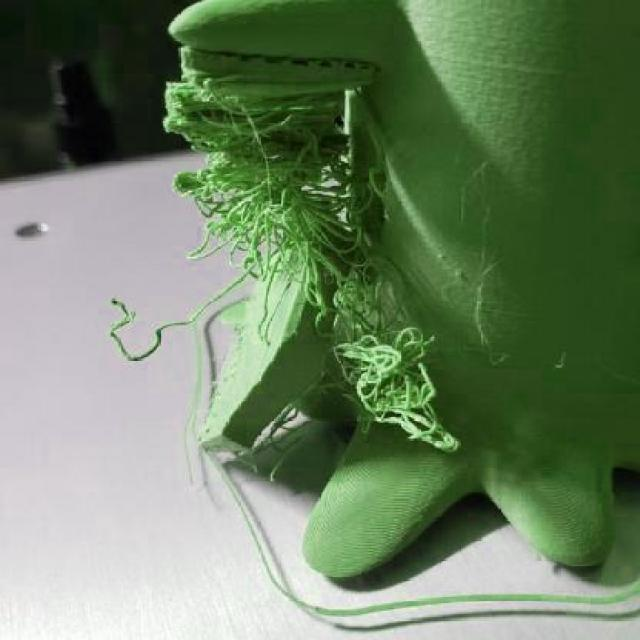spaghetti: (162, 77, 459, 488), (107, 296, 164, 365)
